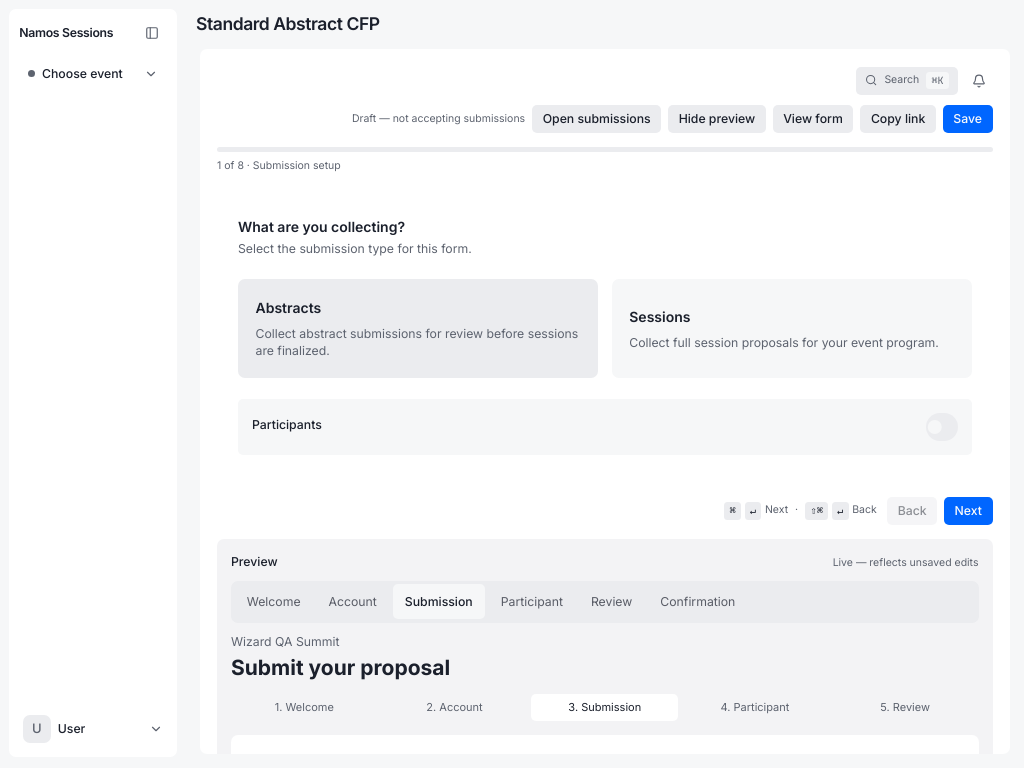
Test case: CFP form builder › renders the submitter's view live from unsaved edits
expect the heading "Submit your proposal" is shown: met, box [231, 655, 450, 680]
Step 1. Click the button "Next" → point(968, 511), box [944, 497, 992, 525]
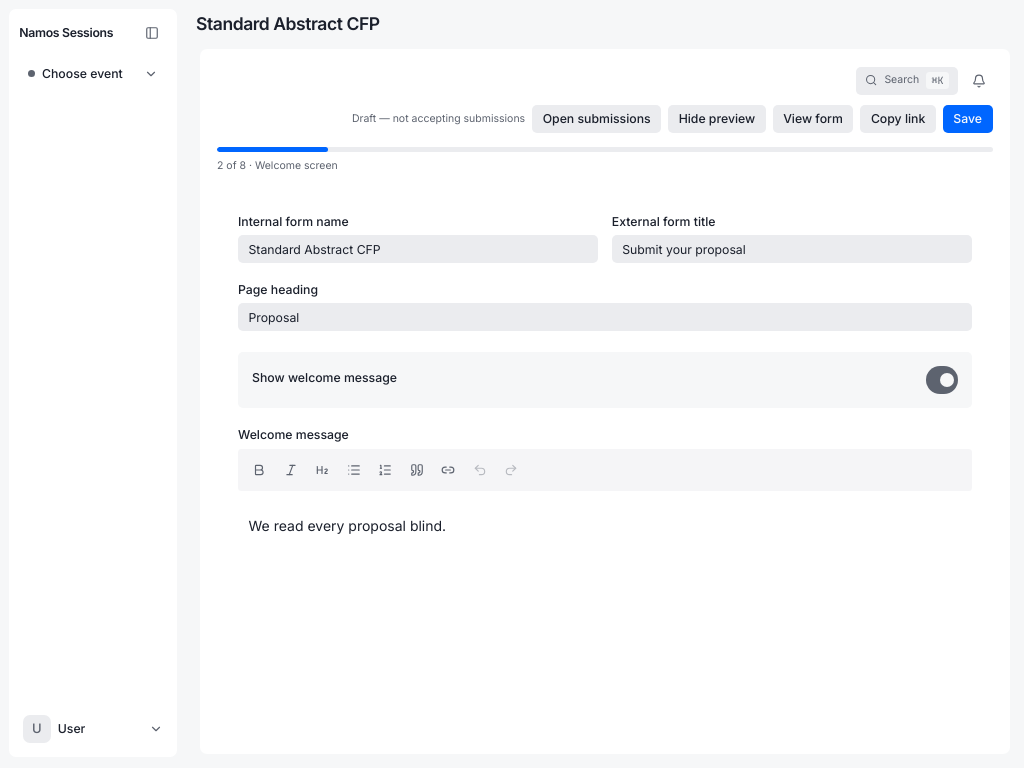
Note: Retitling updates the submitter's heading with no save in between.
Step 2. Replace the text in the field labelled "External form title" with "Speak at Wizard QA" → point(792, 249), box [612, 235, 972, 263]
(page scrolled)
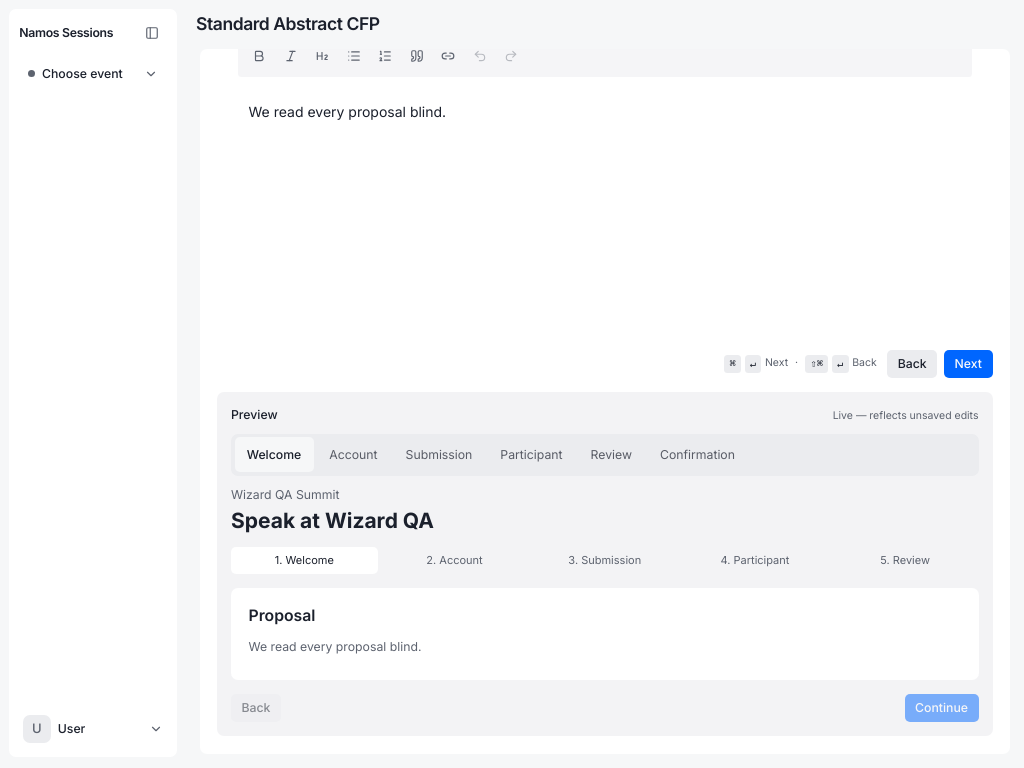
expect the heading "Speak at Wizard QA" is shown: met, box [231, 508, 434, 533]
